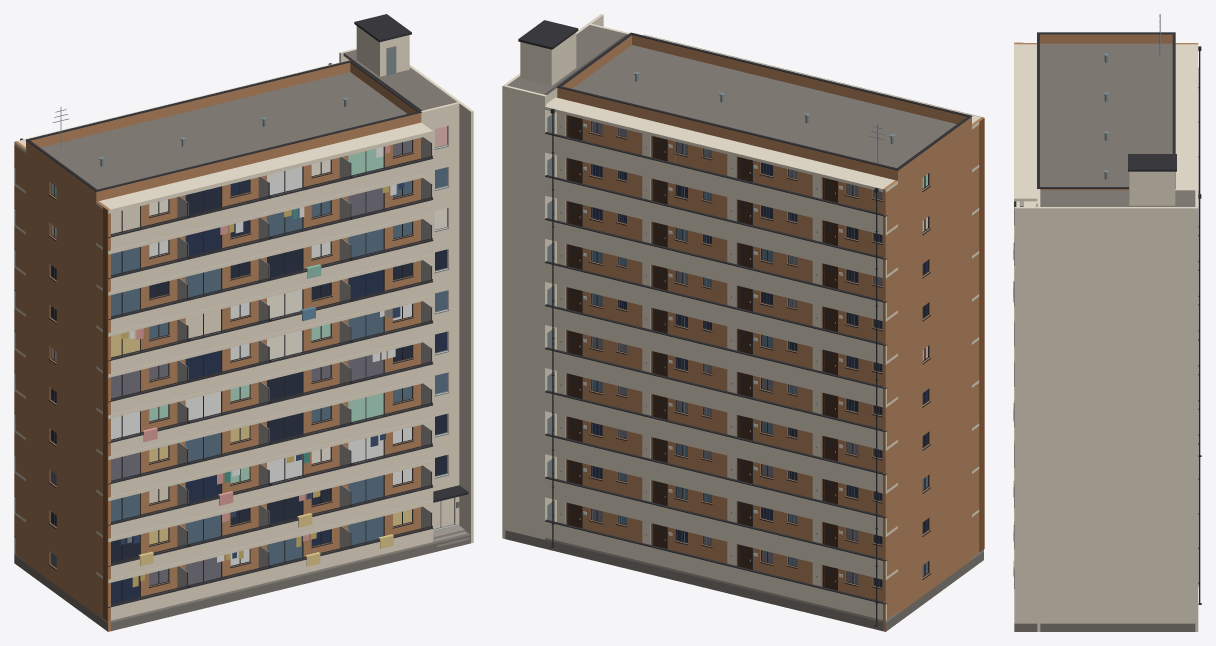
The model's file is tb_mansion_10f_01_b.fbx.
3 renders of one model, left to right at view 1: azimuth 30°, elevation 25°; view 2: azimuth 150°, elevation 25°; view 3: azimuth 270°, elevation 25°, orthographic. The views are drawn at different scales.
Visible parts, largest first — view 1: tb_mansion_10f_01_b; view 2: tb_mansion_10f_01_b; view 3: tb_mansion_10f_01_b.
Boxes of the visible parts, x1,y1,x2,y2 form: tb_mansion_10f_01_b: [14, 14, 473, 631]; tb_mansion_10f_01_b: [502, 14, 984, 631]; tb_mansion_10f_01_b: [1013, 14, 1201, 631].
Size of what is drawn, in the model's own units: 27.05 by 33.1 by 12.25.
Materials: 3 (3 with a texture image).
